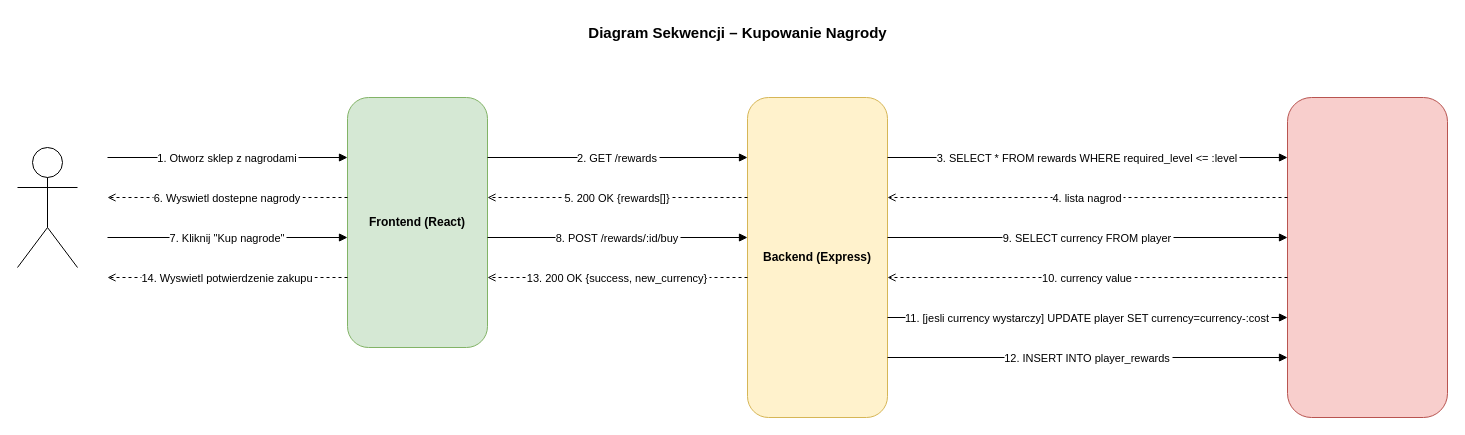
This 1465x435 diagram has some shape labels left out. The shapes that lost their labels are listed below. From the top down, each one's centre as x and y in pixels, then its label:
At (47,207): "Gracz".
At (1367,257): "Baza danych (SQLite)".
